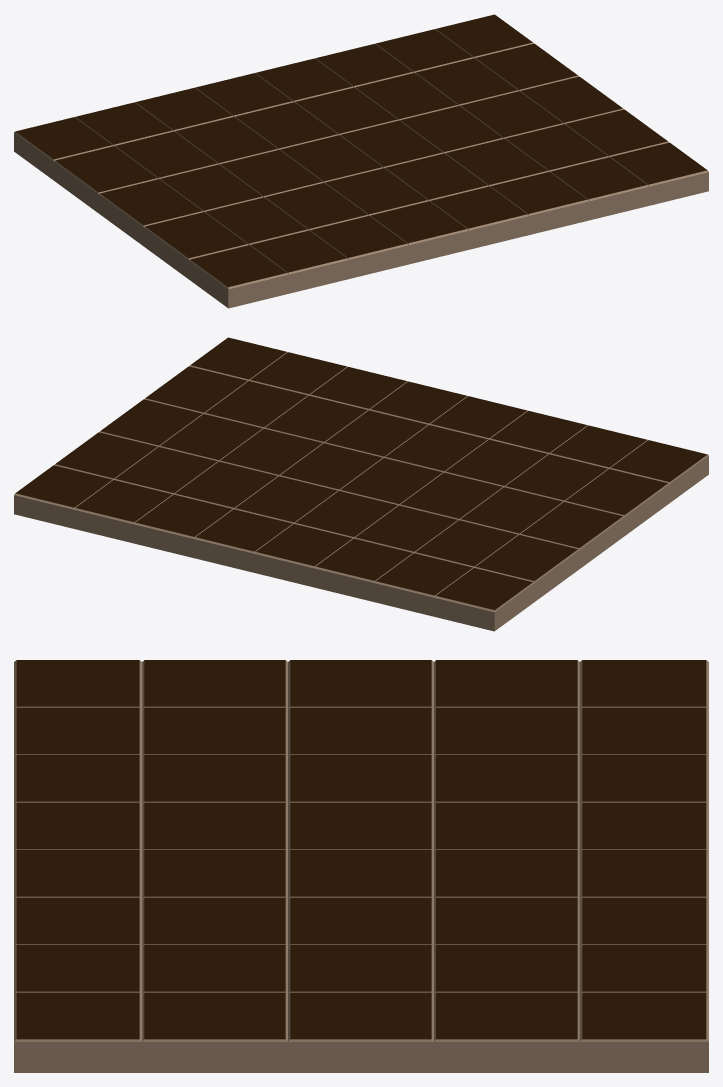
Rendered from suelo9.fbx.
The picture shows the model from 3 angles, top to bottom: view 1: azimuth 30°, elevation 25°; view 2: azimuth 150°, elevation 25°; view 3: azimuth 270°, elevation 25°; orthographic projection. The views are drawn at different scales.
Parts seen in each view (by area): view 1: Cube.013; view 2: Cube.013; view 3: Cube.013.
Part boxes in pixels (left/top/right/bottom): Cube.013: left=14, top=14, right=708, bottom=308; Cube.013: left=14, top=337, right=708, bottom=631; Cube.013: left=14, top=660, right=708, bottom=1072.
Bounding box in the file's own units: 7855 × 321 × 6073.
